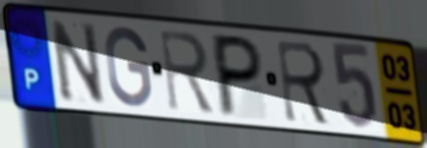5: (327, 41, 380, 135)
G: (103, 24, 154, 111)
N: (46, 16, 108, 105)
P: (212, 31, 265, 120)
R: (274, 37, 334, 129), (156, 27, 217, 116)
